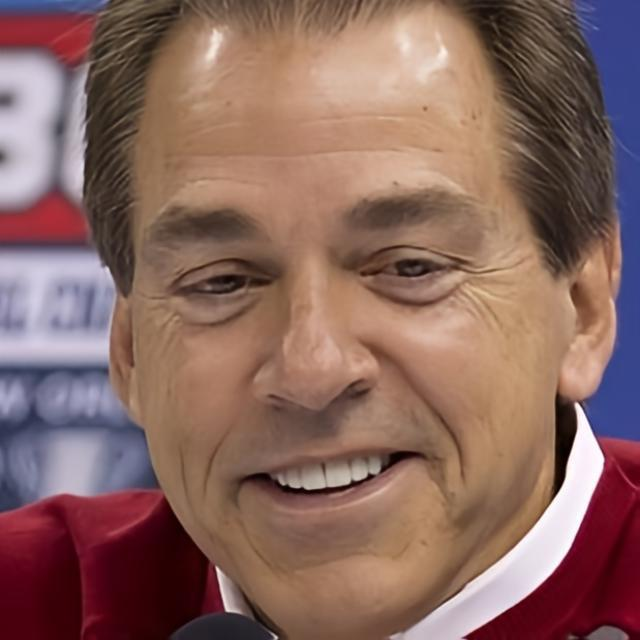happy: (128, 6, 558, 640)
